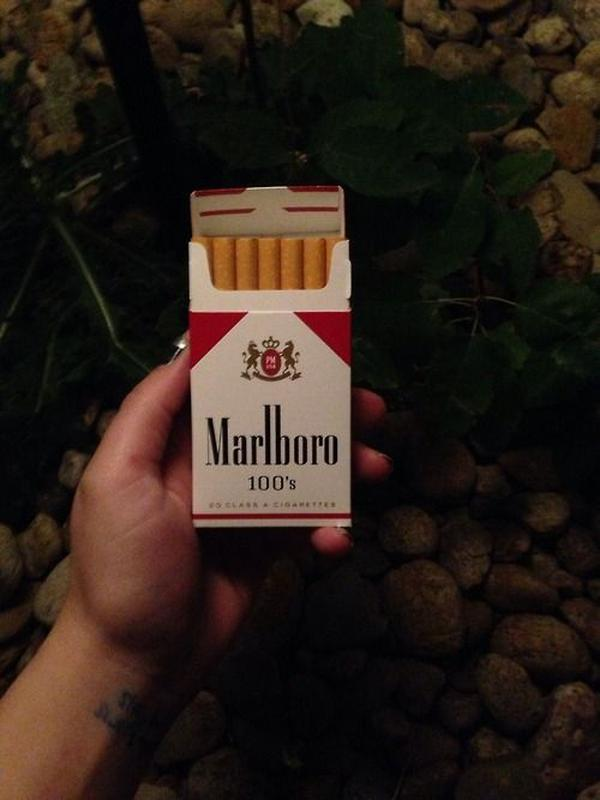marlboro_red: (192, 245, 352, 525)
